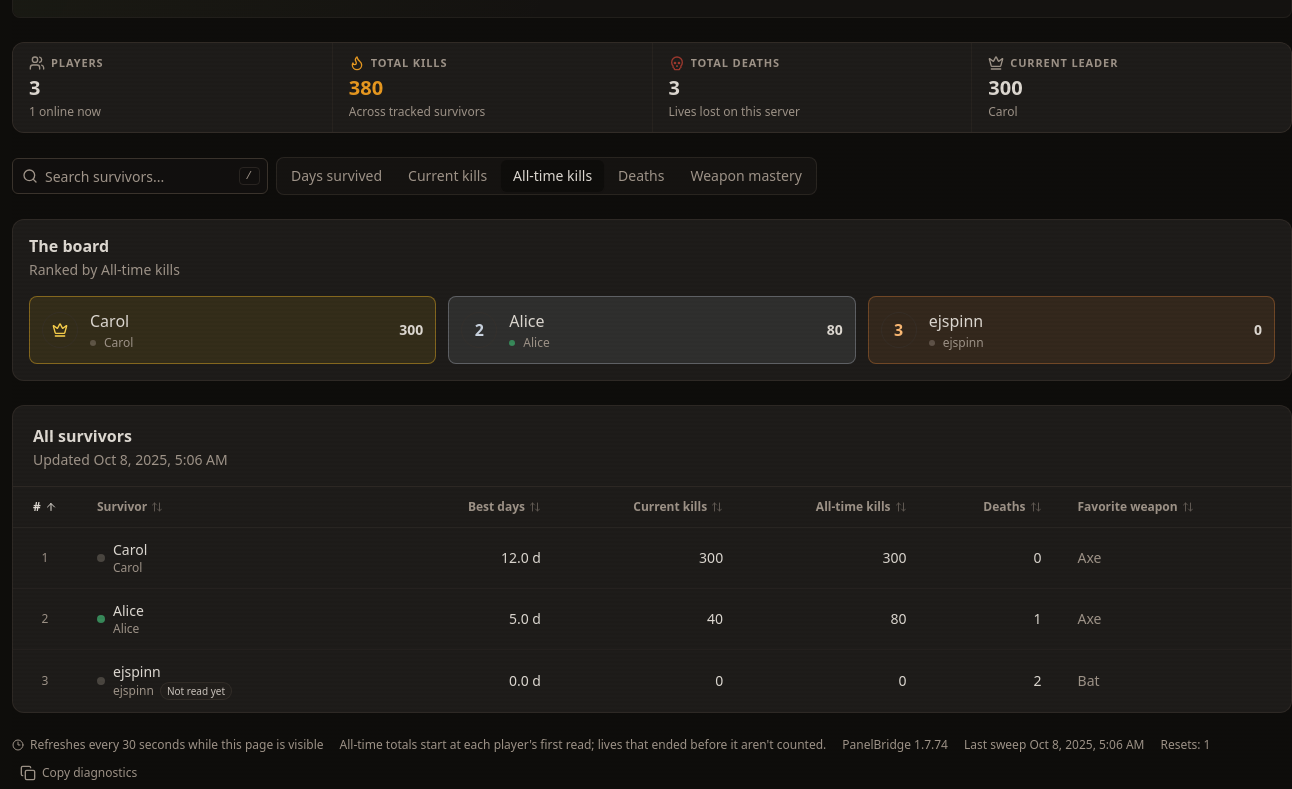
Test: Leaderboard > Copy diagnostics › copies usernames and read times, never a row id or an alias
The width and height of the screenshot is (1292, 789).
(page scrolled)
Expected: the text "All survivors" is shown, [33, 426, 132, 446]
Click the button "Copy diagnostics" at (79, 773), box [12, 757, 145, 788]
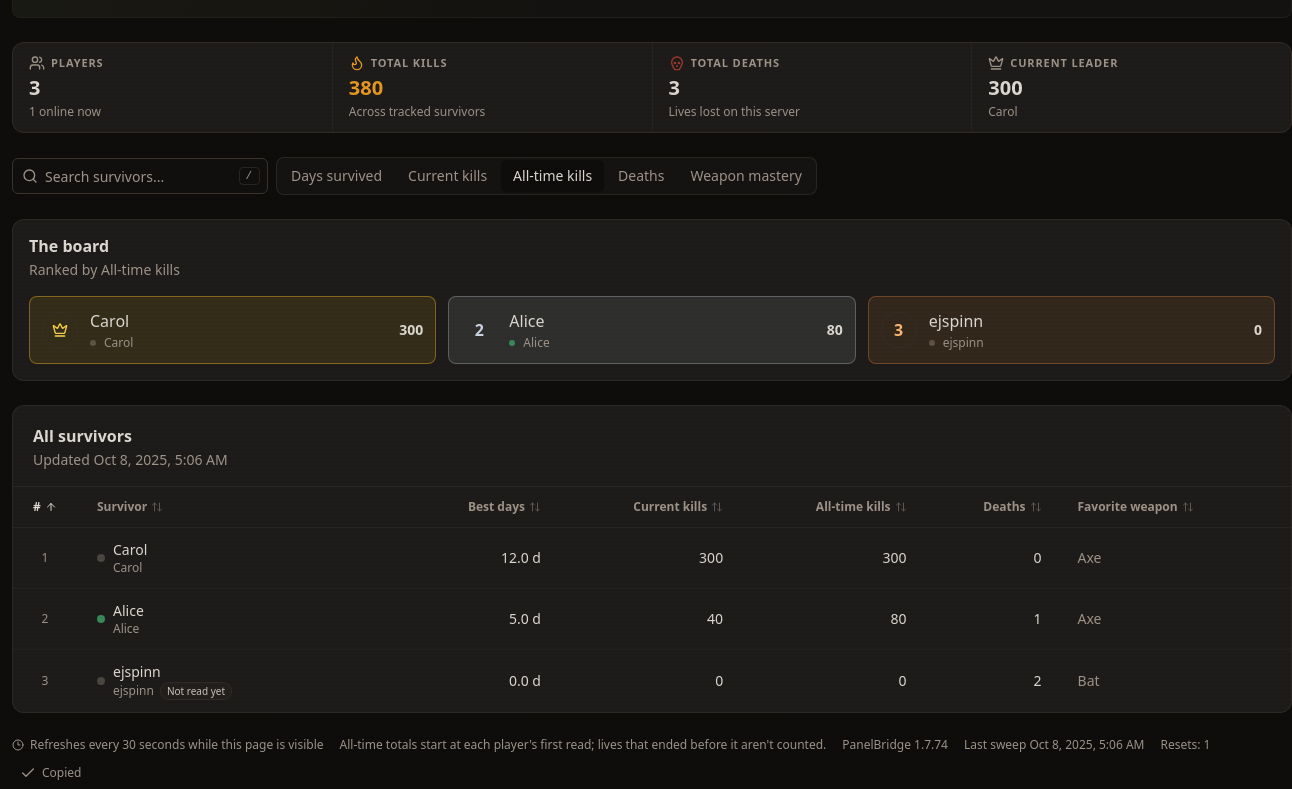
Result: the button "Copied" is shown at [12, 757, 90, 788]
